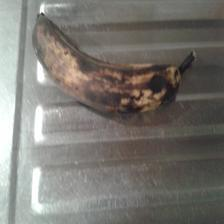Banana Rotten: (21, 2, 196, 126)
